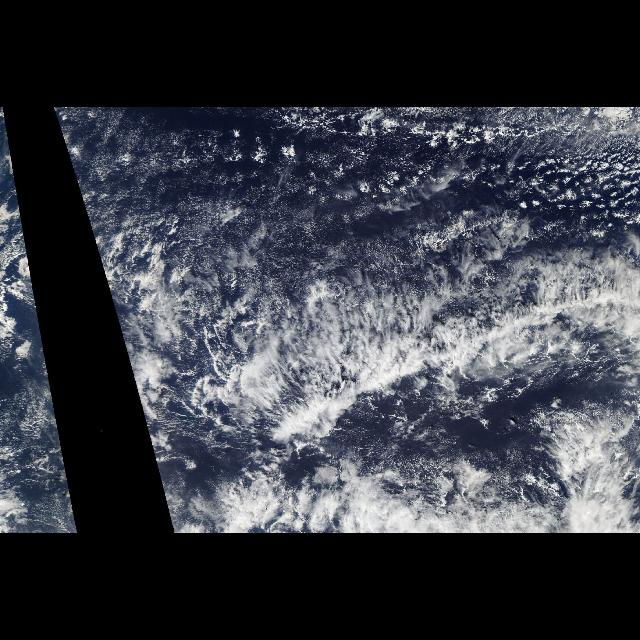Fish: (226, 298, 594, 442)
Sugar: (89, 130, 554, 316)
